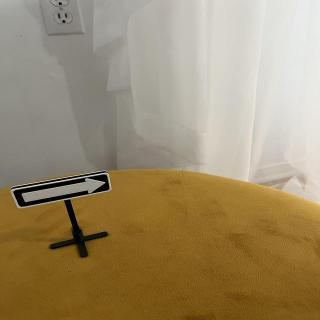sign_oneway_right: (10, 172, 114, 211)
